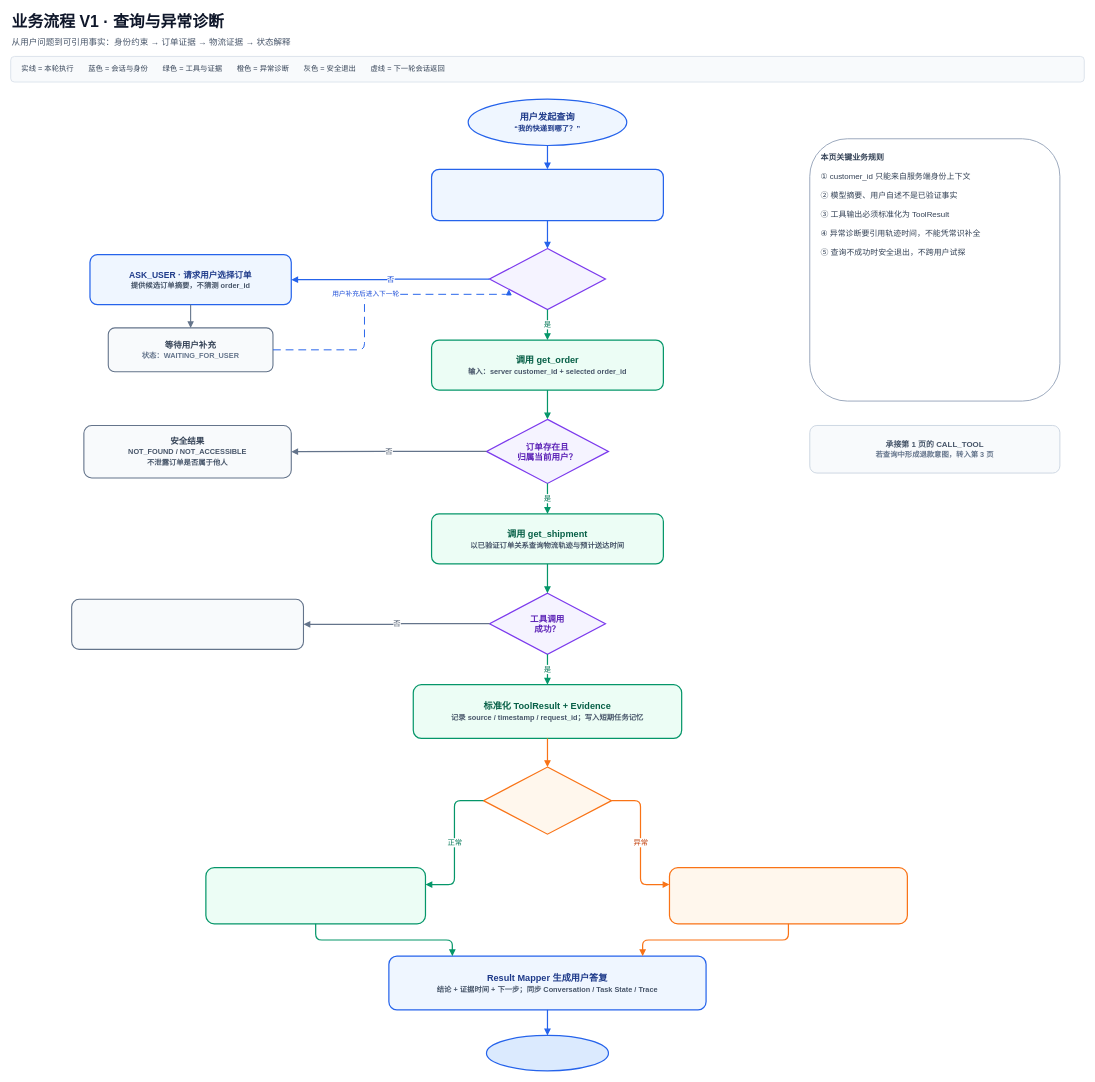
This 1095x1082 diagram has some shape labels left out. Here are the shapes that lost their labels. From the top down, the centre of each, then its label:
At pixel 547 194: "校验登录态并装载 CustomerContext customer_id 由服务端注入，不接受模型或用户覆盖".
At pixel 547 279: "订单标识 是否明确？".
At pixel 187 624: "标准化失败处理 按失败类型有限重试；超预算则 BLOCKED / ESCALATE".
At pixel 547 800: "物流状态 属于哪类？".
At pixel 315 895: "正常在途 / 已签收 说明当前节点、更新时间与 ETA 只陈述证据支持的事实".
At pixel 788 895: "异常诊断 延迟 / 长时间无更新 / 签收未收到 解释依据，并给出可执行下一步".
At pixel 547 1053: "回复用户".
